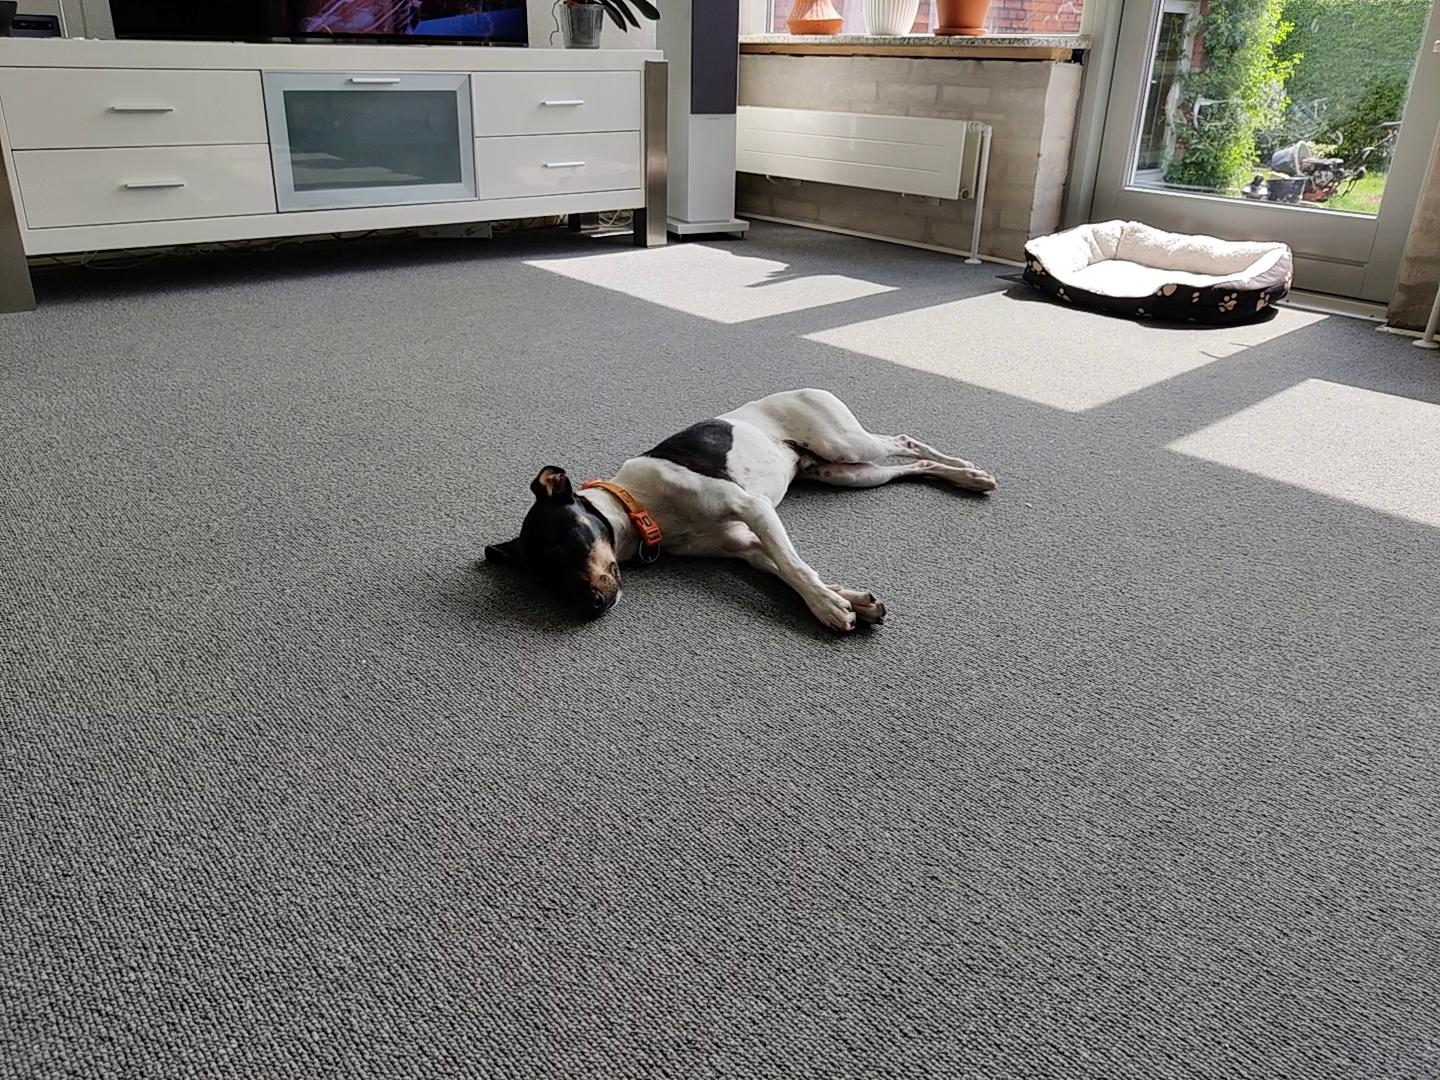Dog: (481, 382, 1002, 638)
